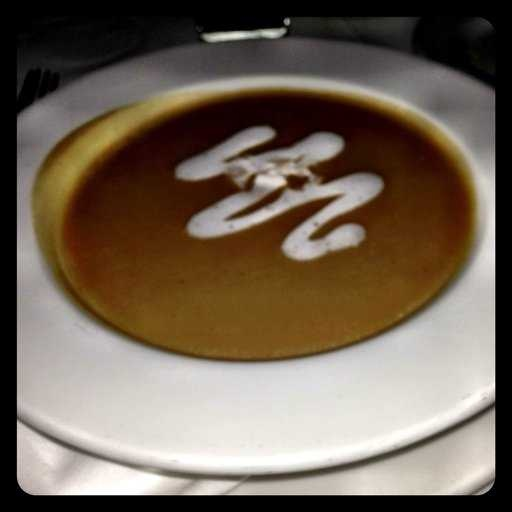soup: (45, 85, 465, 362)
